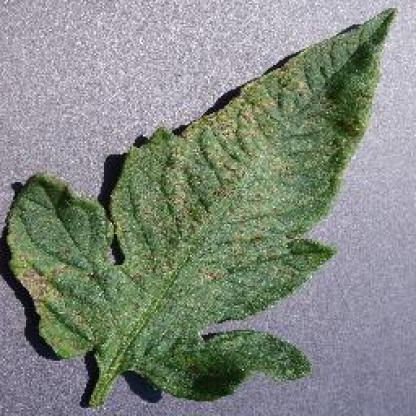bad leaf: (0, 21, 415, 399)
